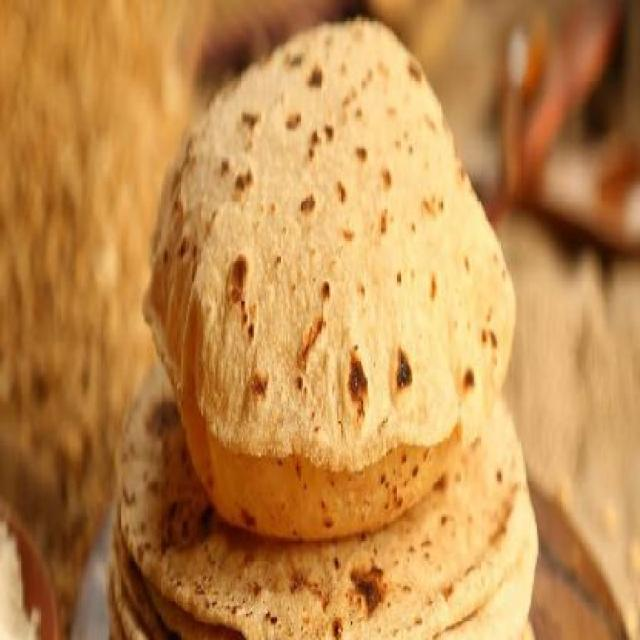chapati: (142, 18, 516, 536)
